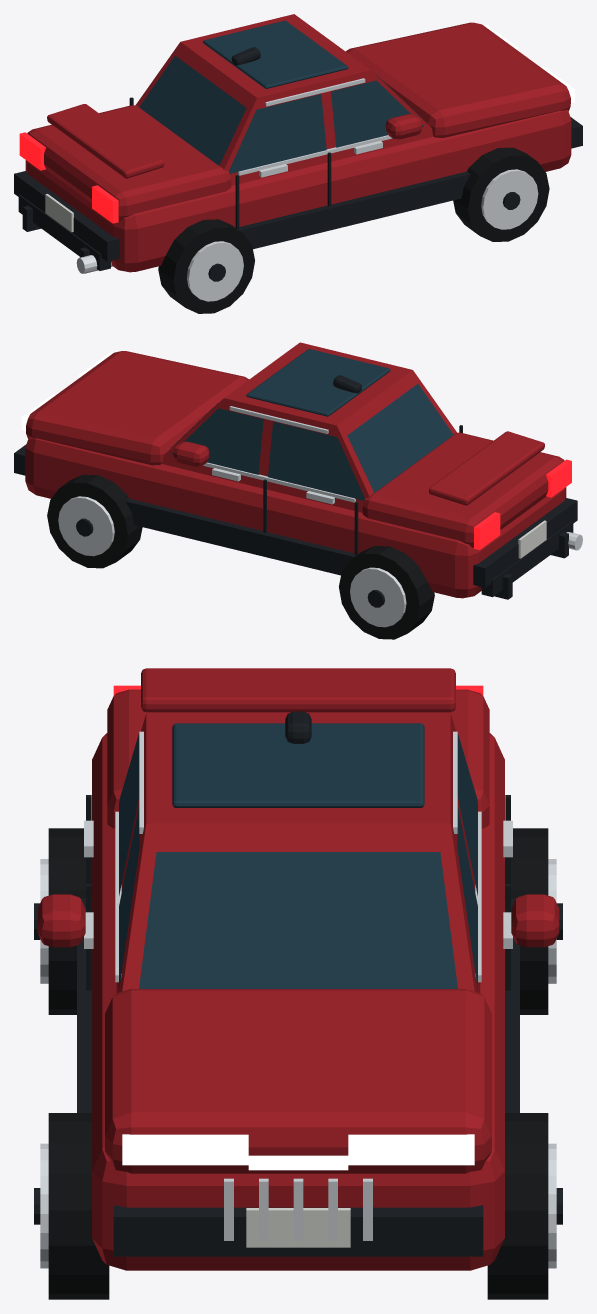
The model's file is Stage10.glb.
The picture shows the model from 3 angles, top to bottom: view 1: azimuth 30°, elevation 25°; view 2: azimuth 150°, elevation 25°; view 3: azimuth 270°, elevation 25°; orthographic projection. The views are drawn at different scales.
Visible parts, largest first — view 1: LowerBody.009, Hood.009, Trunk.009, CabinShell.009, SideWindows.007, RearWindow.008, RockerPanels.009, PanoramicRoof.002, Tire_-1.55_-1.010, Tire_1.55_-1.009, SubtleSpoiler, Bumpers.008 (+9 smaller); view 2: LowerBody.009, Hood.009, Trunk.009, CabinShell.009, SideWindows.007, RearWindow.008, RockerPanels.009, PanoramicRoof.002, Tire_-1.55_1.010, Tire_1.55_1.010, SubtleSpoiler, Bumpers.008 (+9 smaller); view 3: Hood.009, Windshield.009, LowerBody.009, CabinShell.009, PanoramicRoof.002, SubtleSpoiler, Bumpers.008, FrontLEDBar, Tire_1.55_-1.009, Tire_1.55_1.010, Trunk.009, SideWindows.007 (+13 smaller).
Part boxes in pixels (x1,y1,x2,y2): LowerBody.009: (25,110,571,272); Hood.009: (346,22,570,137); Trunk.009: (27,105,231,221); CabinShell.009: (136,14,433,185); SideWindows.007: (228,80,423,173); RearWindow.008: (139,56,246,165); RockerPanels.009: (237,171,470,249); PanoramicRoof.002: (203,20,348,88); Tire_-1.55_-1.010: (158,219,254,313); Tire_1.55_-1.009: (453,147,549,241); SubtleSpoiler: (47,104,164,178); Bumpers.008: (14,117,582,261); LowerBody.009: (25,437,566,598); Hood.009: (26,351,248,465); Trunk.009: (362,432,564,547); CabinShell.009: (162,342,456,512); SideWindows.007: (172,408,364,500); RearWindow.008: (347,384,453,492); RockerPanels.009: (125,498,355,575); PanoramicRoof.002: (246,349,390,416); Tire_-1.55_1.010: (339,546,434,639); Tire_1.55_1.010: (47,474,142,568); SubtleSpoiler: (429,431,544,505); Bumpers.008: (14,444,577,587); Hood.009: (105,989,491,1173); Windshield.009: (139,852,457,988); LowerBody.009: (92,733,504,1270); CabinShell.009: (116,713,480,992); PanoramicRoof.002: (172,723,424,807); SubtleSpoiler: (141,668,455,712); Bumpers.008: (113,1205,483,1256); FrontLEDBar: (122,1134,474,1170); Tire_1.55_-1.009: (48,1113,109,1299); Tire_1.55_1.010: (487,1113,548,1299); Trunk.009: (107,689,489,828); SideWindows.007: (119,733,477,989).
Size of the model in its own units: 5.18 by 1.95 by 2.44.
